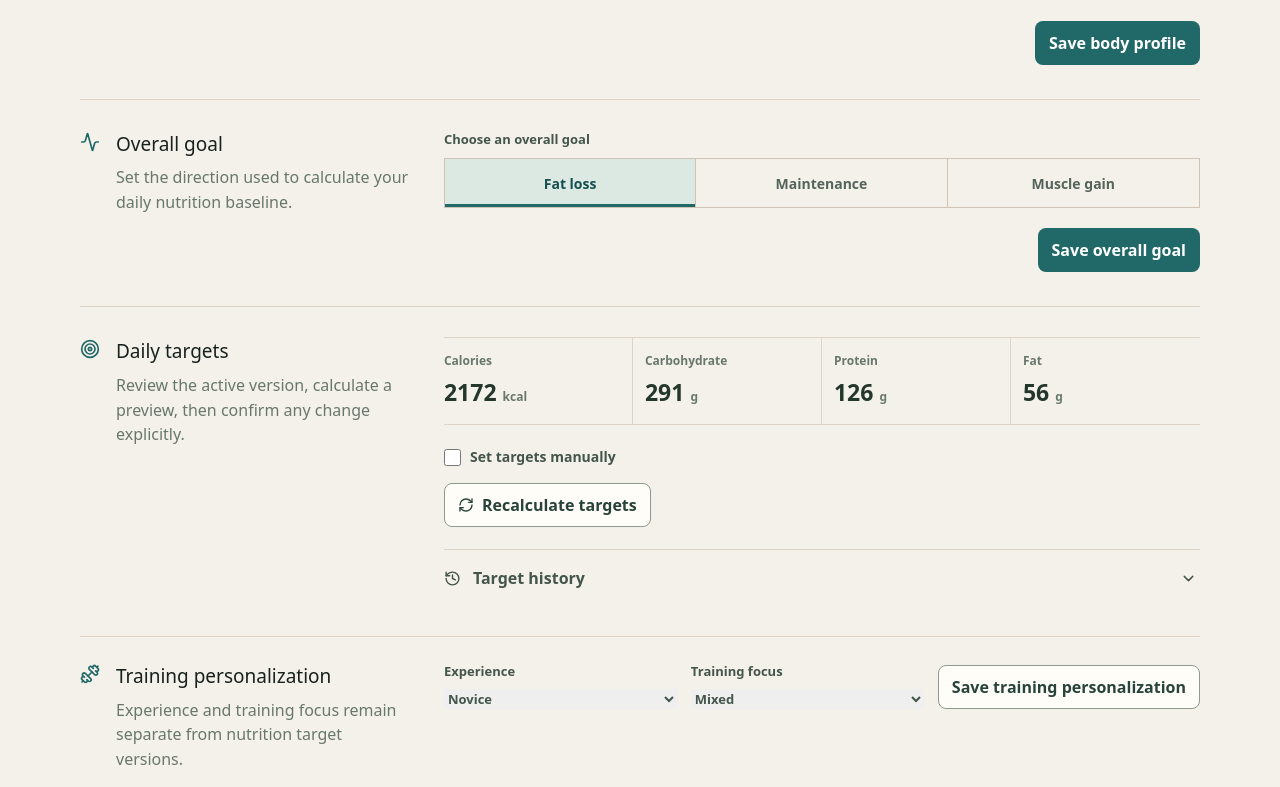
Test: Profile › requires manual recalculation when a deterministic preview arrives in manual mode
(page scrolled)
Click the checkbox labelled "Set targets manually".
click(452, 457)  # box [444,449,461,466]
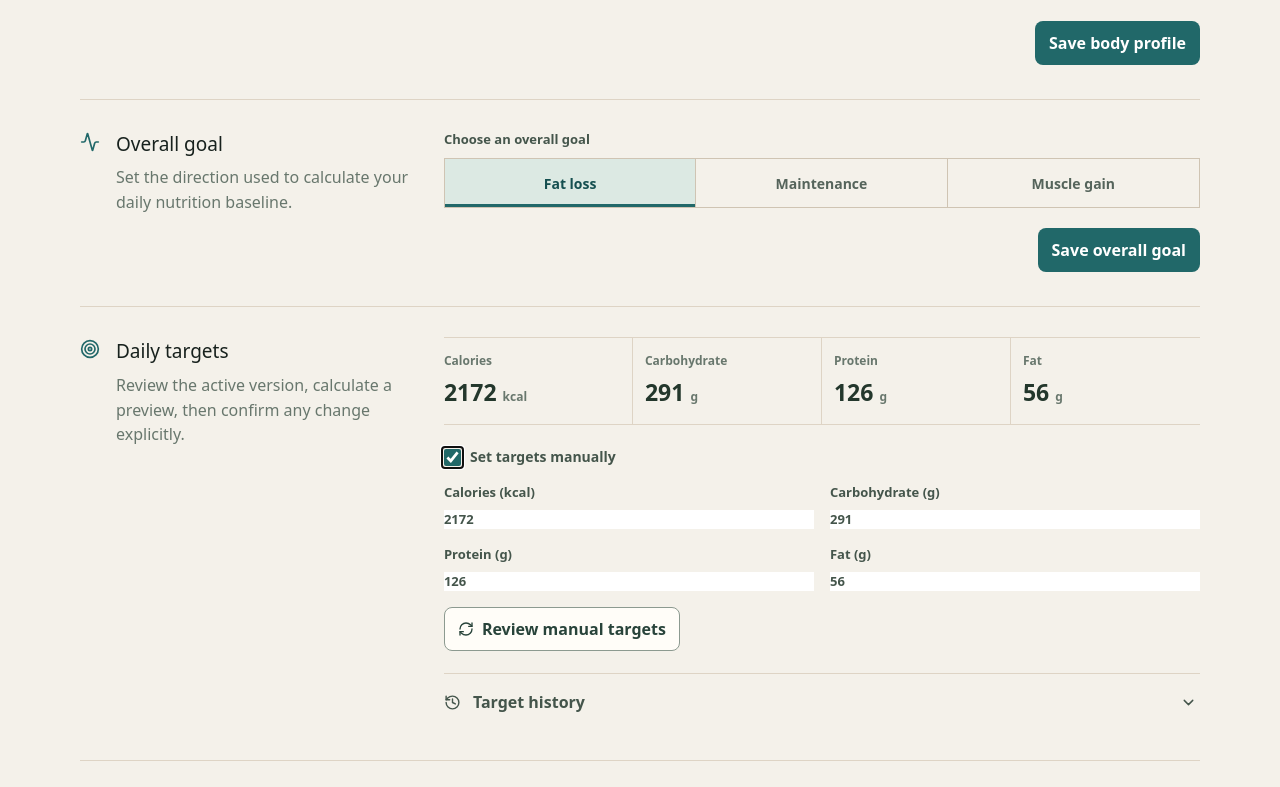
Replace the text in the number field labelled "Calories (kcal)" with "2400" at (629, 519), box [444,510,814,529]
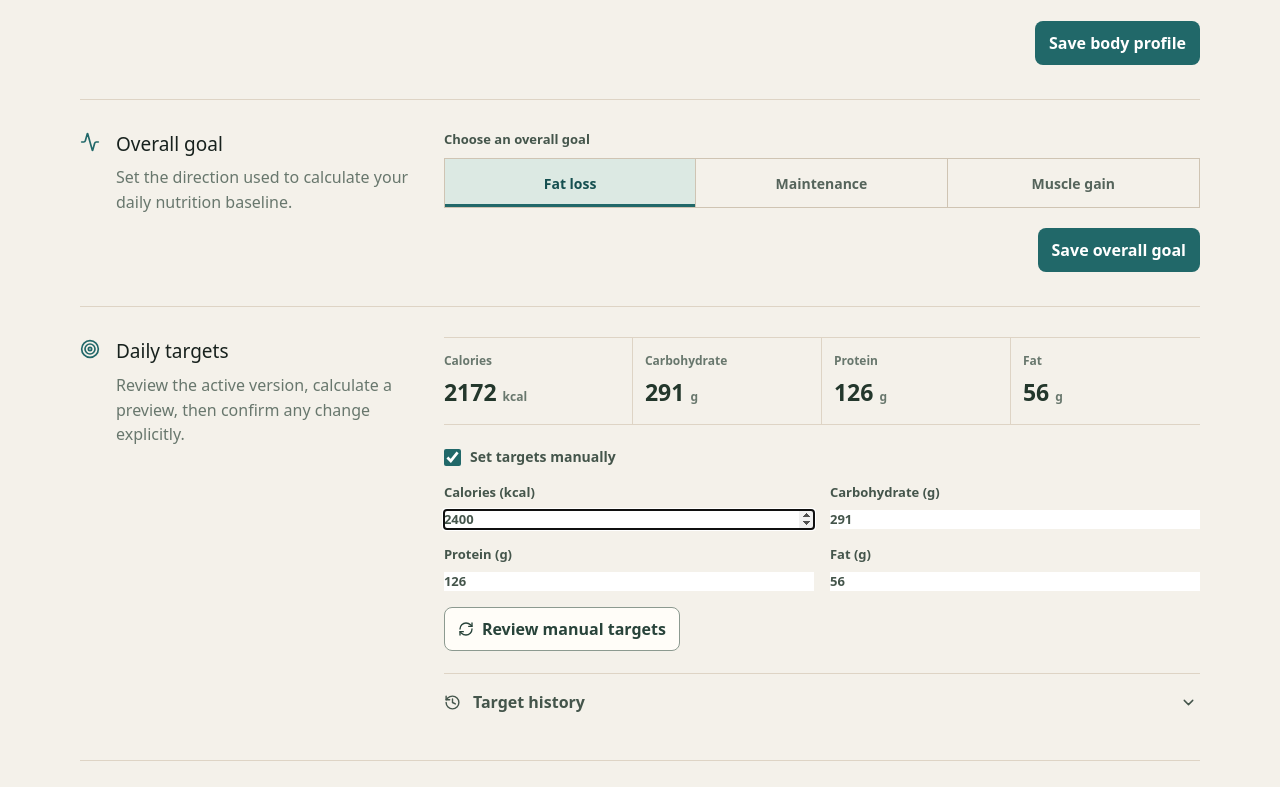
Click the button "Save body profile".
click(1118, 43)  # box [1035,21,1200,65]
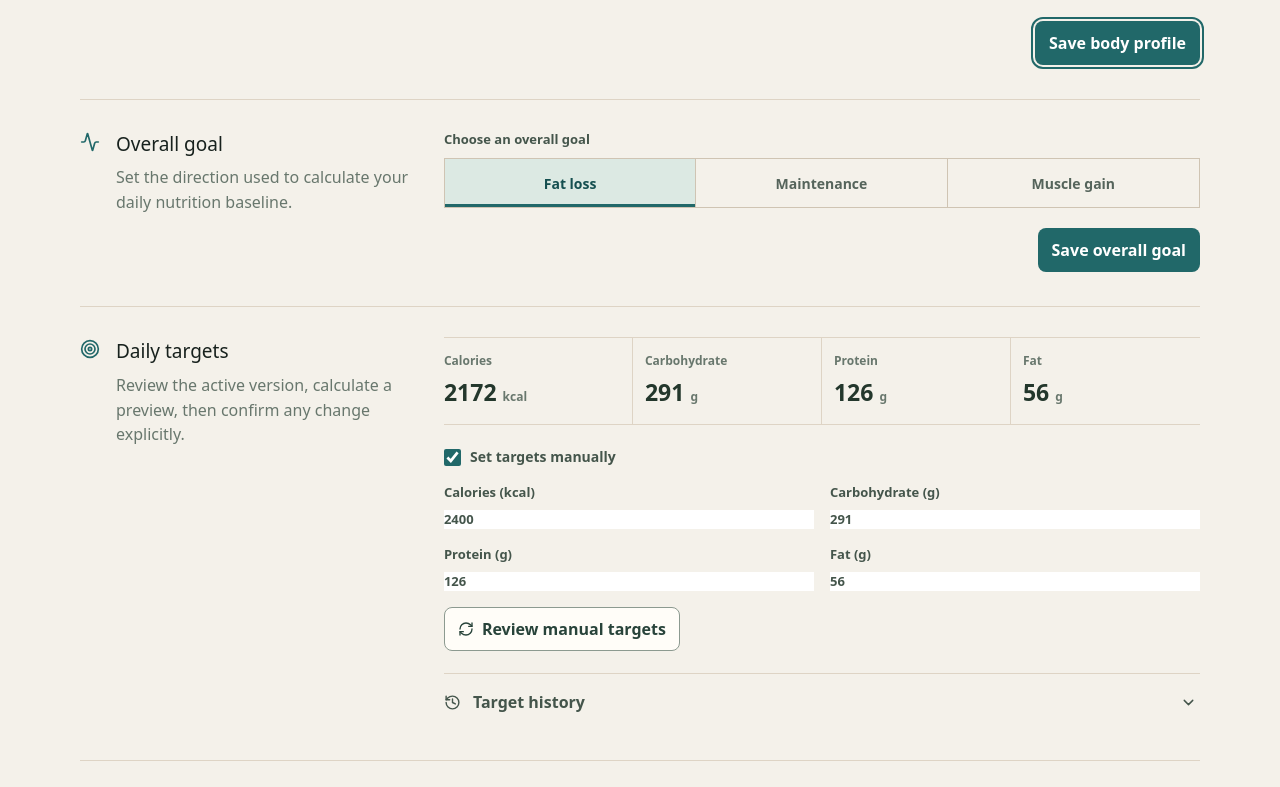
Expected: the button "Confirm daily targets" is not shown
Click the button "Review manual targets".
click(562, 629)  # box [444,607,680,651]
(page scrolled)
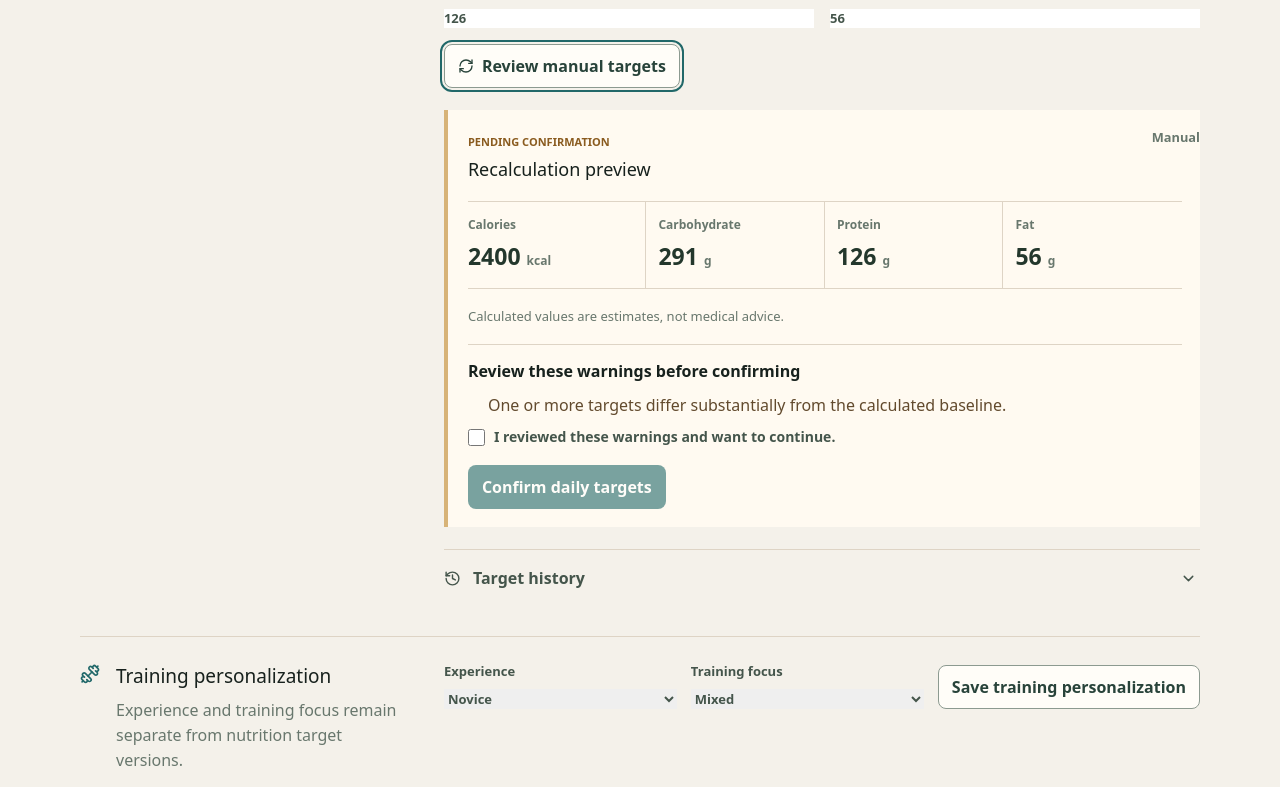
Now the button "Confirm daily targets" is disabled, box [468,465,666,509]
